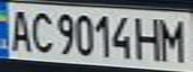0: (72, 11, 93, 57)
1: (90, 11, 112, 58)
4: (109, 12, 136, 60)
9: (51, 9, 75, 56)
A: (3, 6, 36, 54)
C: (27, 7, 57, 55)
H: (133, 14, 166, 62)
M: (157, 15, 190, 63)
